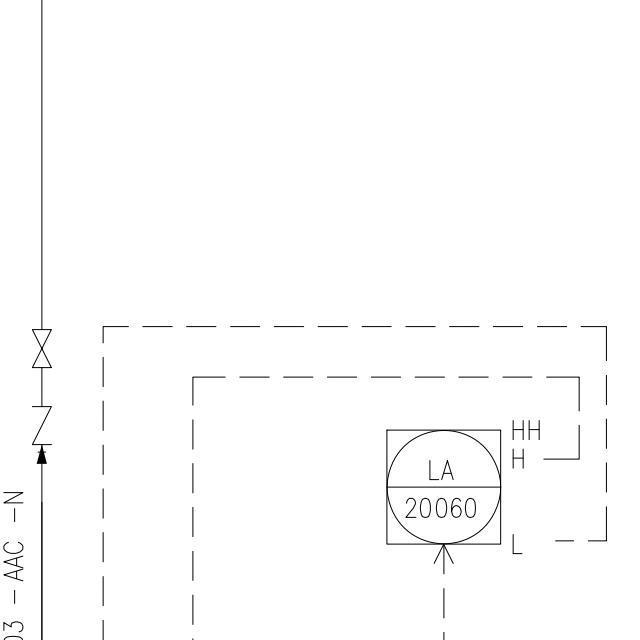GV: (26, 323, 58, 374)
